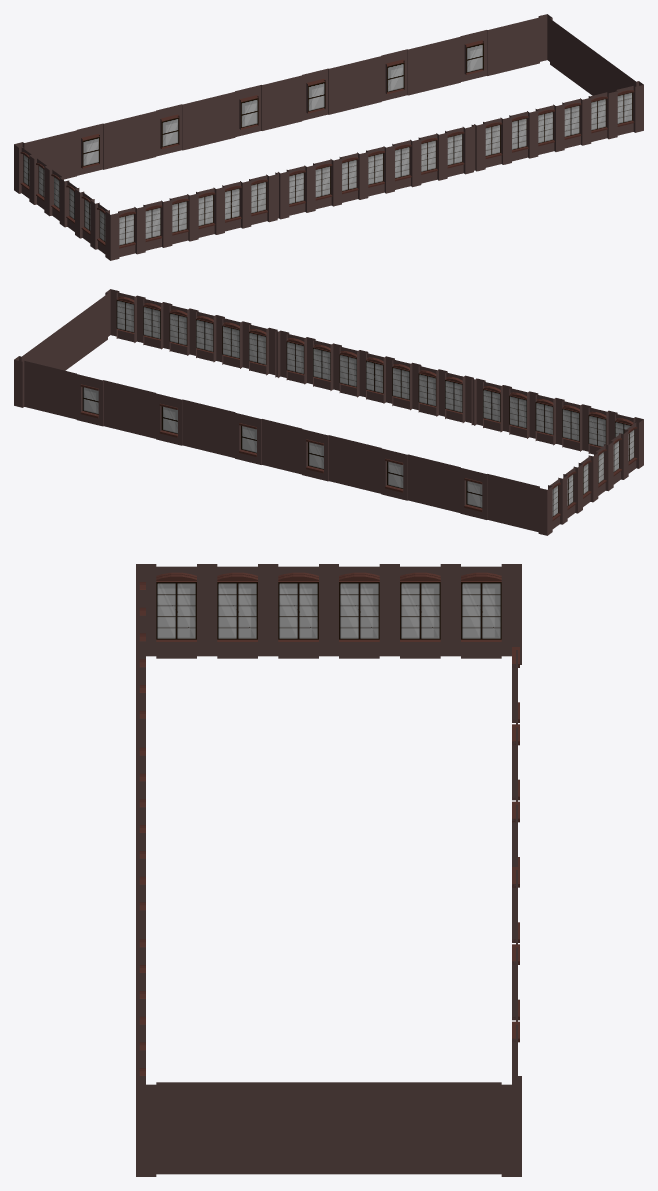
The model's file is BuildingSmall1_2.fbx.
3 renders of one model, top to bottom at view 1: azimuth 30°, elevation 25°; view 2: azimuth 150°, elevation 25°; view 3: azimuth 270°, elevation 25°, orthographic. The views are drawn at different scales.
Visible parts, largest first — view 1: BuildingSmall1_2; view 2: BuildingSmall1_2; view 3: BuildingSmall1_2.
Boxes of the visible parts, left/top/right/bottom form: BuildingSmall1_2: left=14, top=14, right=643, bottom=260; BuildingSmall1_2: left=14, top=289, right=643, bottom=535; BuildingSmall1_2: left=136, top=564, right=521, bottom=1176.
Size of the model in its own units: 6060 by 500 by 1900.
